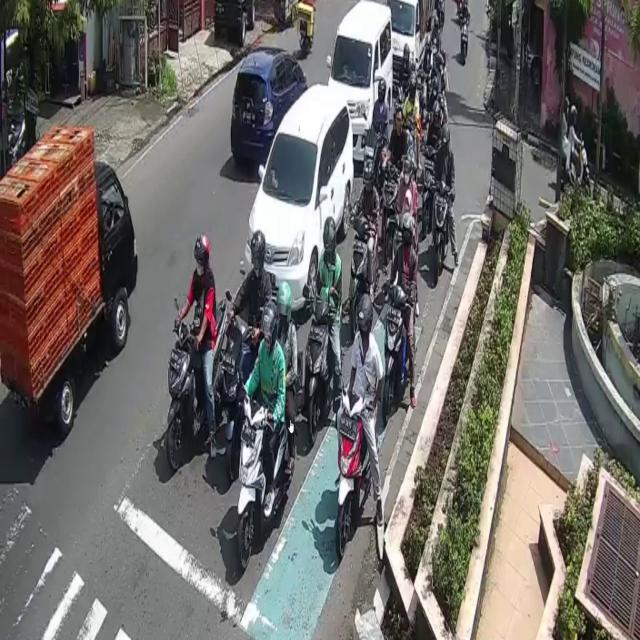bus: (163, 297, 234, 474), (237, 396, 290, 568), (337, 387, 372, 555), (305, 298, 333, 447), (383, 290, 412, 429), (352, 213, 377, 304), (434, 184, 453, 276), (563, 142, 591, 190)
motorcycle: (0, 162, 137, 437), (243, 81, 354, 319), (329, 0, 394, 162), (230, 46, 308, 163), (388, 0, 427, 75)
